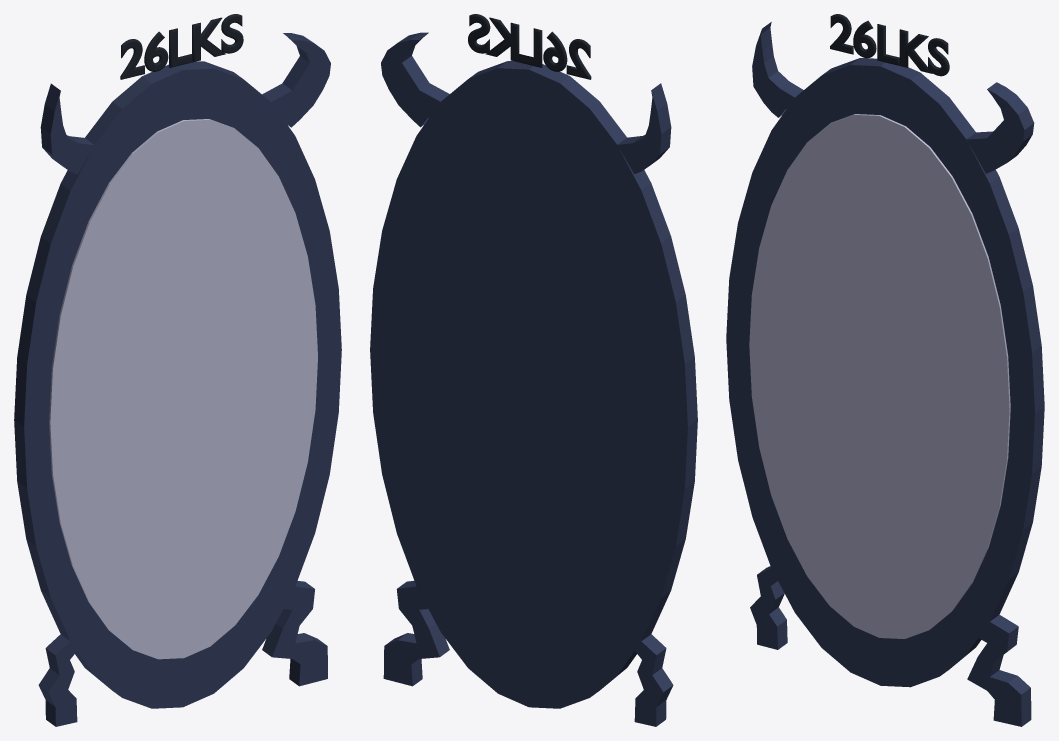
File: espejo.fbx
3 renders of one model, left to right at view 1: azimuth 30°, elevation 25°; view 2: azimuth 150°, elevation 25°; view 3: azimuth 330°, elevation 25°, orthographic. The views are drawn at different scales.
Parts seen in each view (by area): view 1: Circle; view 2: Circle; view 3: Circle.
Boxes of the visible parts, <box> form: Circle: <box>14,14,341,726</box>; Circle: <box>370,14,697,726</box>; Circle: <box>726,14,1044,726</box>.
Bounding box in the file's own units: 327 × 673 × 20.06.
